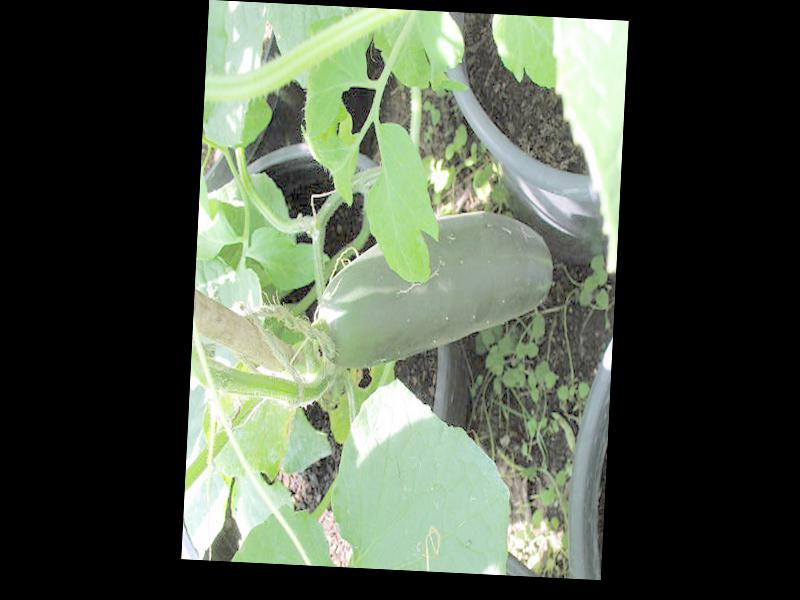Cucumber: (313, 204, 555, 378)
